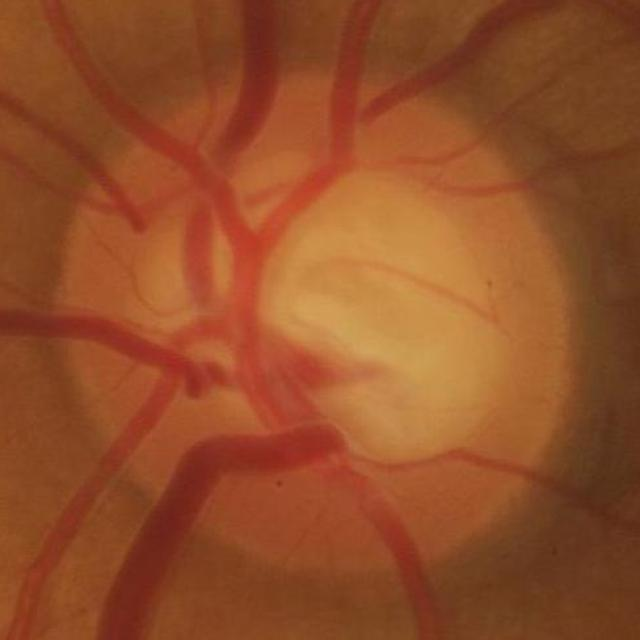OC: (149, 163, 500, 467)
OD: (44, 76, 576, 596)
